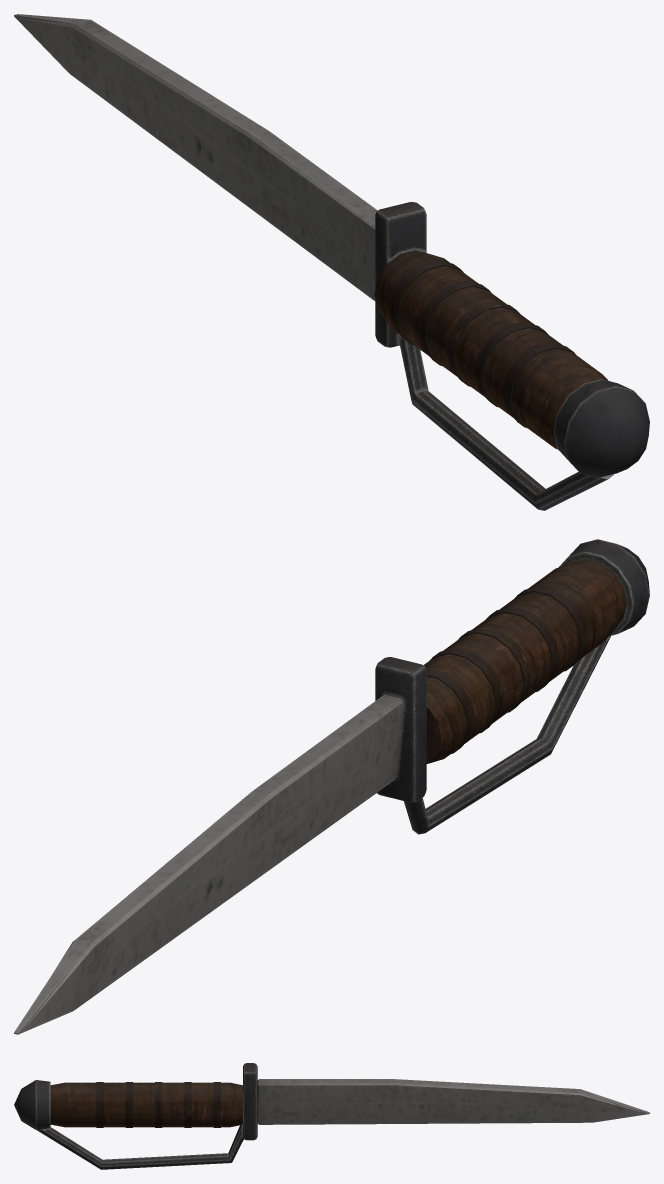
File: levy_knife.glb
The picture shows the model from 3 angles, top to bottom: view 1: azimuth 30°, elevation 25°; view 2: azimuth 150°, elevation 25°; view 3: azimuth 270°, elevation 25°; orthographic projection. The views are drawn at different scales.
Parts seen in each view (by area): view 1: levy_knife; view 2: levy_knife; view 3: levy_knife.
Boxes of the visible parts, x1,y1,x2,y2 form: levy_knife: (14,14,649,510); levy_knife: (14,539,649,1034); levy_knife: (14,1063,649,1169).
Size of the model in its own units: 0.028 by 0.0617 by 0.3472.
1 material, 1 textured.
